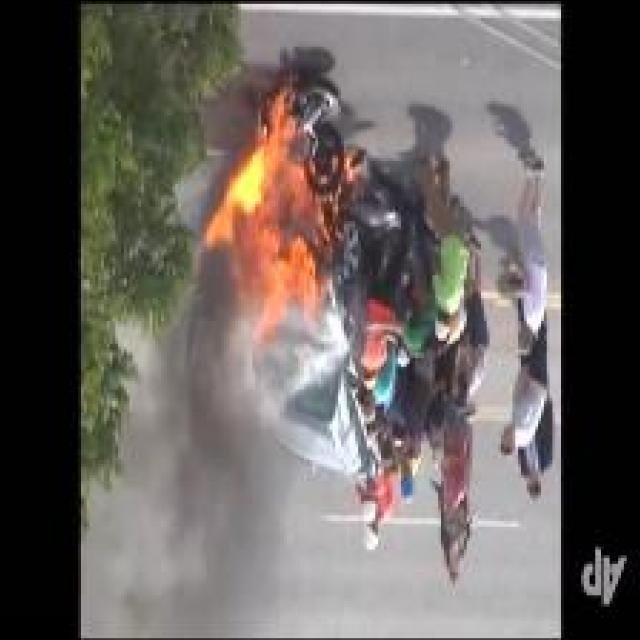Fire: (203, 84, 363, 358)
